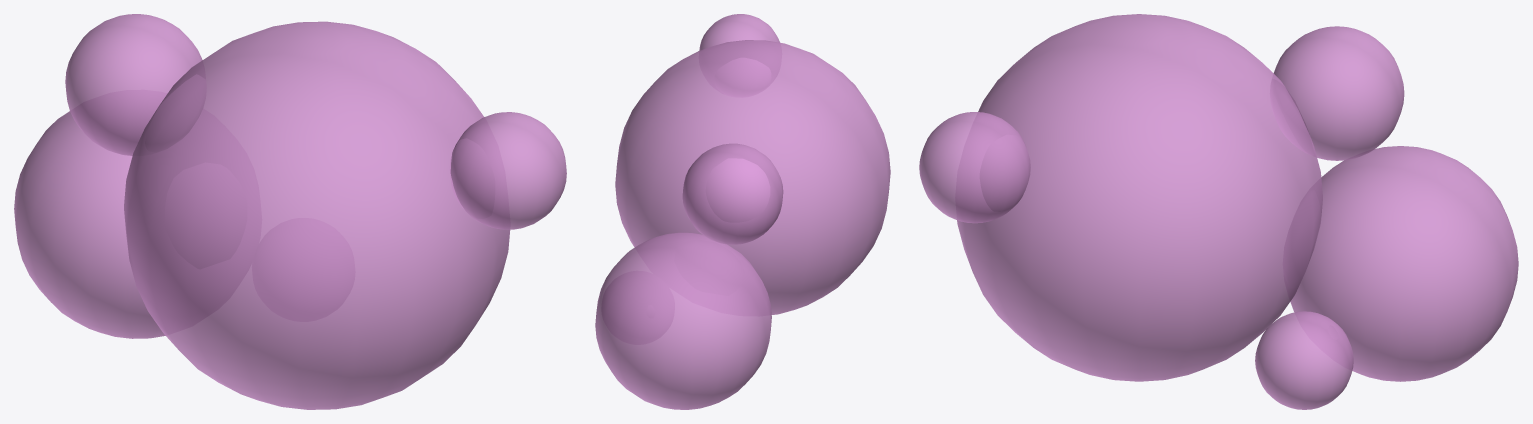
File: BubblePlayer.fbx
3 views of the same model, side by side, from view 1: azimuth 30°, elevation 25°; view 2: azimuth 150°, elevation 25°; view 3: azimuth 270°, elevation 25° (orthographic). The views are drawn at different scales.
Parts seen in each view (by area): view 1: pSphere92; view 2: pSphere92; view 3: pSphere92.
Part boxes in pixels (x1=…): pSphere92: x1=14, y1=14, x2=566, y2=409; pSphere92: x1=595, y1=14, x2=890, y2=409; pSphere92: x1=919, y1=14, x2=1518, y2=409.
Bounding box in the file's own units: 2.05 × 2.21 × 3.35.
